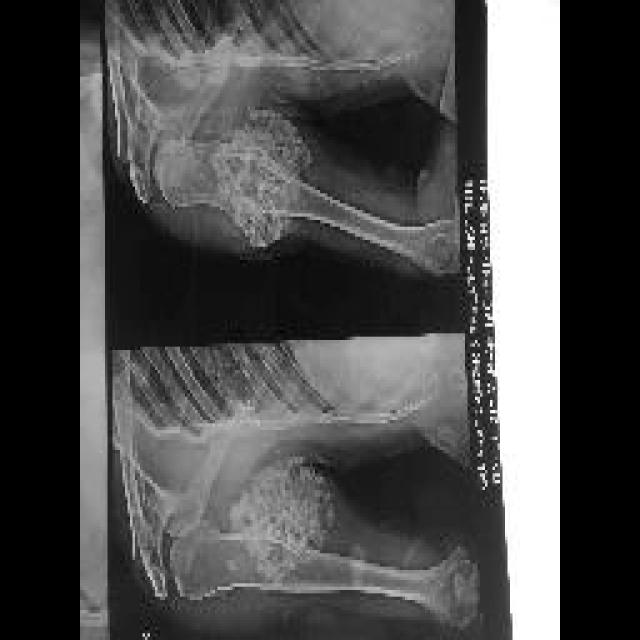bone-cancer: (212, 103, 316, 243), (235, 460, 341, 588)
